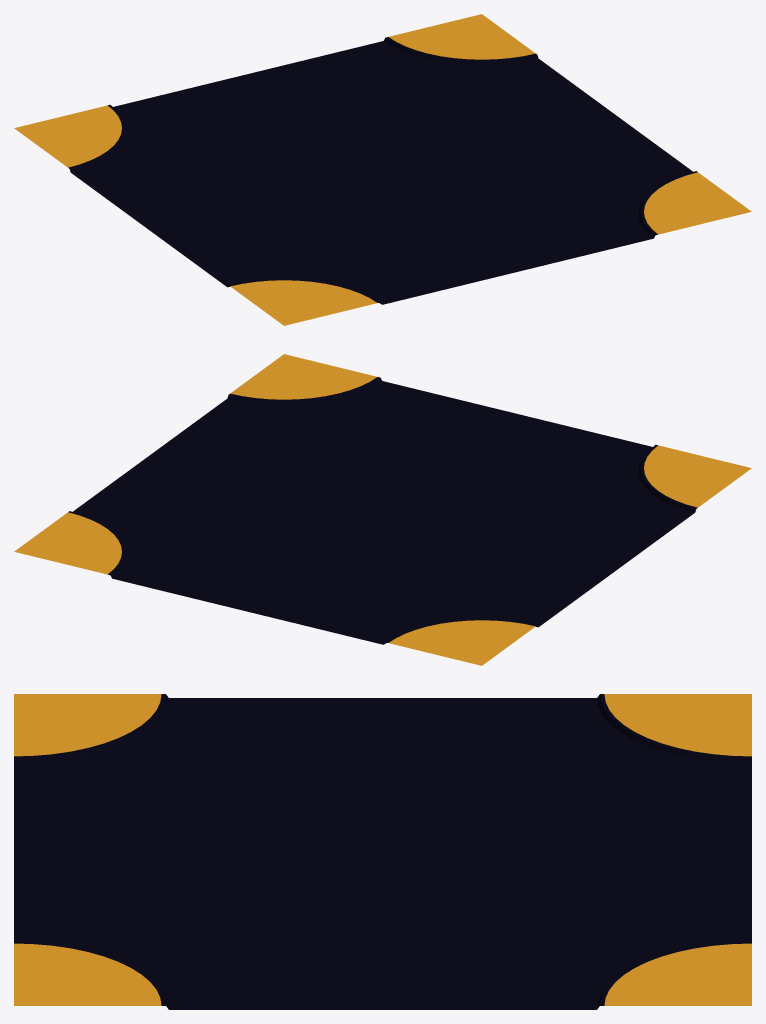
Rendered from RoadX.fbx.
The picture shows the model from 3 angles, top to bottom: view 1: azimuth 30°, elevation 25°; view 2: azimuth 150°, elevation 25°; view 3: azimuth 270°, elevation 25°; orthographic projection. The views are drawn at different scales.
Visible parts, largest first — view 1: Road_25m_X_; view 2: Road_25m_X_; view 3: Road_25m_X_.
Part boxes in pixels (left/top/right/bottom): Road_25m_X_: left=14, top=14, right=751, bottom=325; Road_25m_X_: left=14, top=354, right=751, bottom=665; Road_25m_X_: left=14, top=694, right=751, bottom=1009.
Bounding box in the file's own units: 2500 × 2500 × 15.
